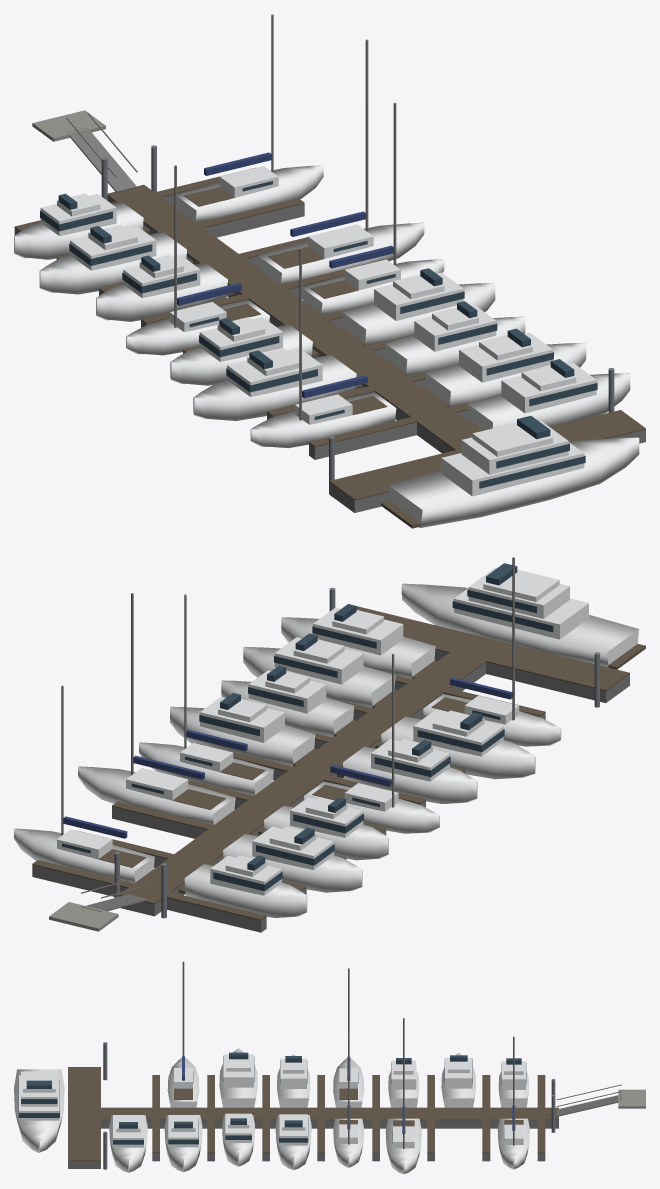
Rendered from port_crane.fbx.
3 renders of one model, top to bottom at view 1: azimuth 30°, elevation 25°; view 2: azimuth 150°, elevation 25°; view 3: azimuth 270°, elevation 25°, orthographic. The views are drawn at different scales.
Visible parts, largest first — view 1: a1095_0_port_crane; view 2: a1095_0_port_crane; view 3: a1095_0_port_crane.
Boxes of the visible parts, x1,y1,x2,y2 form: a1095_0_port_crane: (14, 14, 645, 528); a1095_0_port_crane: (14, 557, 645, 932); a1095_0_port_crane: (14, 961, 645, 1174).
Bounding box in the file's own units: 24.45 × 14.65 × 57.4.
